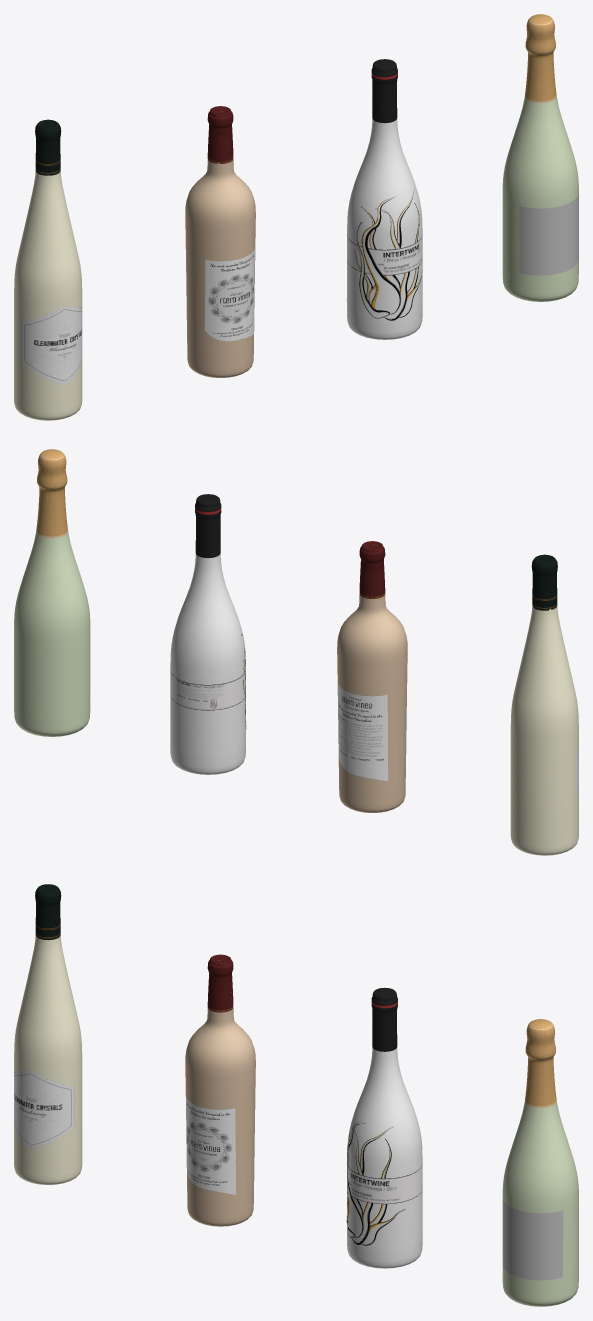
Rendered from wine_bottles_01_4k.obj.
3 views of the same model, one above another, from view 1: azimuth 30°, elevation 25°; view 2: azimuth 150°, elevation 25°; view 3: azimuth 330°, elevation 25° (orthographic).
Visible parts, largest first — view 1: wine_bottles_01_champagne, wine_bottles_01_alsace, wine_bottles_01_burgundy, wine_bottles_01_bordeaux; view 2: wine_bottles_01_champagne, wine_bottles_01_alsace, wine_bottles_01_burgundy, wine_bottles_01_bordeaux; view 3: wine_bottles_01_champagne, wine_bottles_01_alsace, wine_bottles_01_burgundy, wine_bottles_01_bordeaux.
Boxes of the visible parts, x1,y1,x2,y2 form: wine_bottles_01_champagne: (502, 14, 578, 301); wine_bottles_01_alsace: (14, 119, 82, 420); wine_bottles_01_burgundy: (346, 59, 422, 339); wine_bottles_01_bordeaux: (185, 106, 255, 377); wine_bottles_01_champagne: (14, 449, 90, 736); wine_bottles_01_alsace: (510, 554, 578, 855); wine_bottles_01_burgundy: (170, 494, 246, 774); wine_bottles_01_bordeaux: (337, 541, 407, 812); wine_bottles_01_champagne: (502, 1019, 578, 1306); wine_bottles_01_alsace: (14, 884, 82, 1184); wine_bottles_01_burgundy: (346, 987, 422, 1268); wine_bottles_01_bordeaux: (185, 954, 255, 1226).
Bounding box in the file's own units: 0.6763 × 0.3314 × 0.0806.
